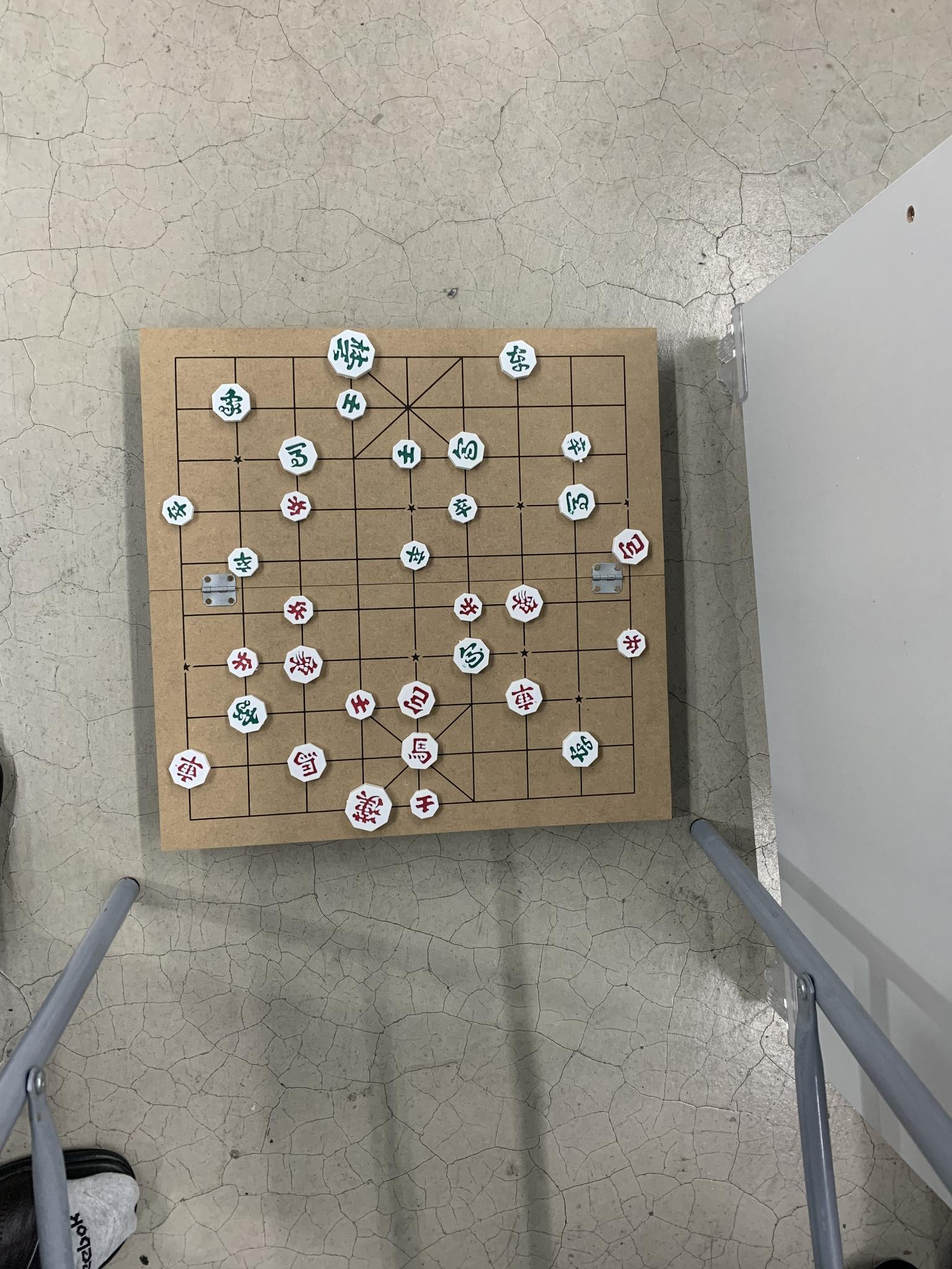cha_green: (497, 339, 538, 379), (560, 729, 601, 767)
cha_red: (169, 750, 212, 790), (505, 679, 543, 718)
jol_green: (561, 430, 593, 461), (163, 493, 193, 525), (228, 547, 259, 577), (402, 539, 431, 571), (449, 492, 477, 524)
jol_red: (227, 648, 260, 680), (616, 628, 647, 658), (452, 594, 484, 623), (281, 490, 310, 522), (284, 597, 315, 626)
ma_green: (278, 437, 320, 475), (557, 484, 597, 522)
ma_red: (286, 742, 328, 783), (399, 733, 439, 771)
po_green: (456, 635, 490, 674), (450, 433, 484, 469)
po_red: (398, 681, 436, 721), (614, 529, 649, 566)
sa_green: (336, 390, 369, 421), (390, 441, 423, 471)
sa_red: (408, 788, 442, 820), (344, 690, 377, 721)
sang_green: (226, 695, 268, 737), (212, 384, 252, 424)
sang_red: (283, 645, 324, 685), (506, 585, 544, 624)
wang_green: (328, 328, 376, 379)
wang_red: (345, 784, 392, 831)
